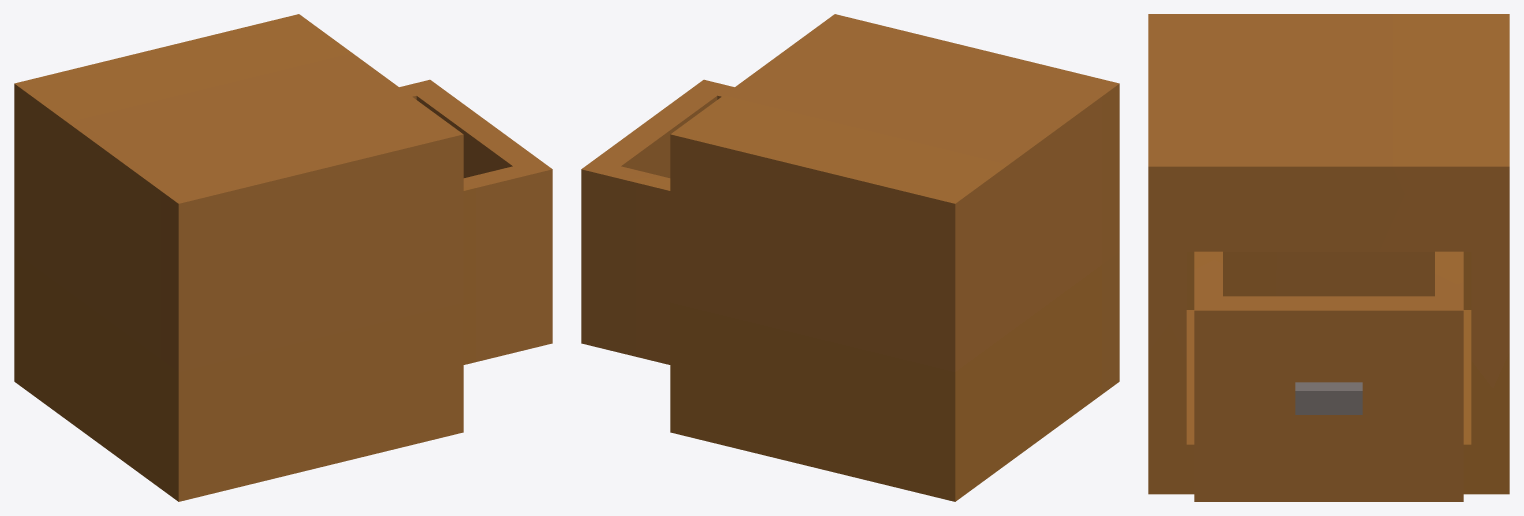
File: Drawer.fbx
3 views of the same model, side by side, from view 1: azimuth 30°, elevation 25°; view 2: azimuth 150°, elevation 25°; view 3: azimuth 270°, elevation 25° (orthographic). The views are drawn at different scales.
Visible parts, largest first — view 1: Drawer Main, Draw; view 2: Drawer Main, Draw; view 3: Drawer Main, Draw.
Boxes of the visible parts, x1=… form: Drawer Main: x1=14, y1=14, x2=463, y2=501; Draw: x1=399, y1=79, x2=552, y2=364; Drawer Main: x1=670, y1=14, x2=1119, y2=501; Draw: x1=581, y1=79, x2=734, y2=364; Drawer Main: x1=1148, y1=14, x2=1509, y2=494; Draw: x1=1194, y1=251, x2=1463, y2=501.
Bounding box in the file's own units: 289 × 200 × 200.
2 materials, 2 textured.
